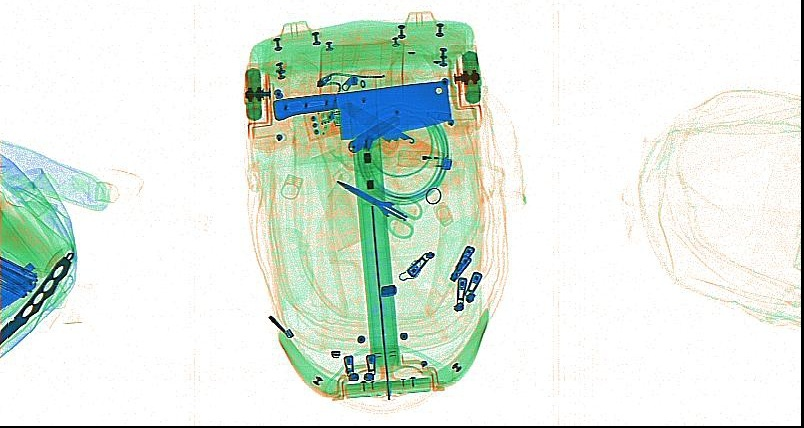knife: (271, 79, 453, 140), (1, 251, 74, 345), (340, 101, 445, 161), (346, 113, 401, 155)
lighter: (397, 147, 452, 170)
scissors: (334, 179, 422, 239)
